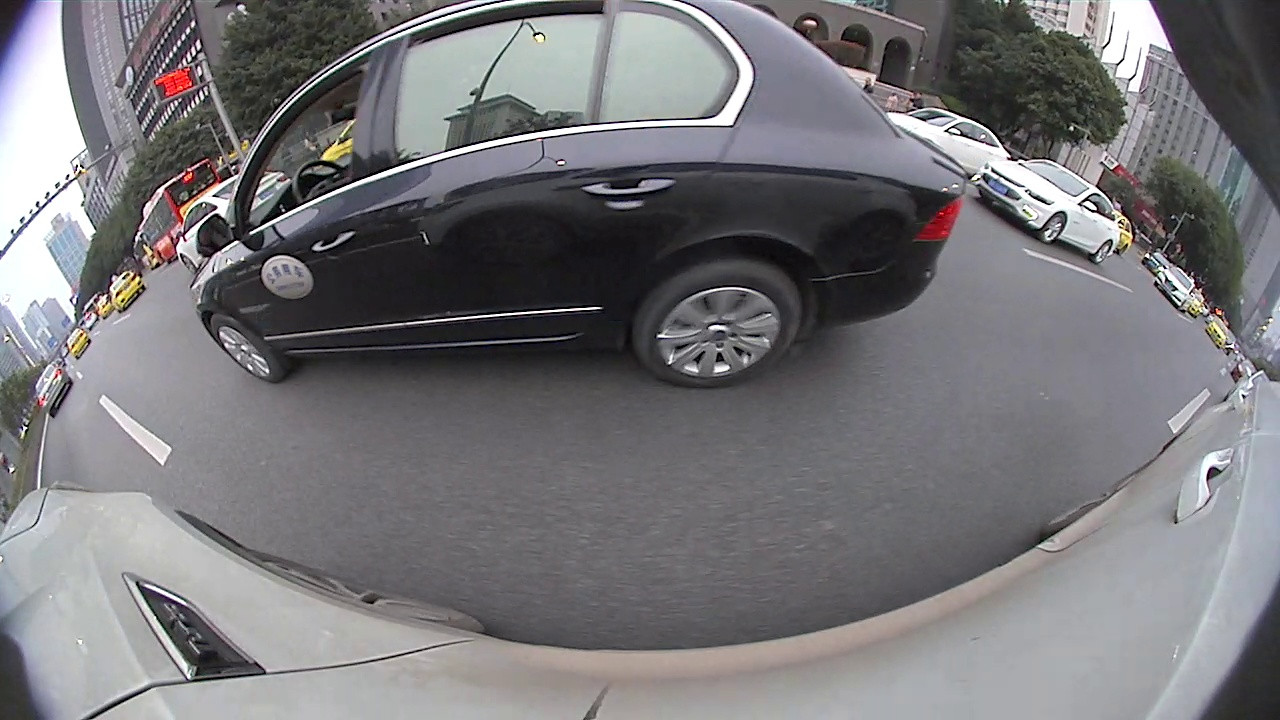bus: (106, 224, 231, 316), (708, 141, 781, 180), (1, 308, 26, 362), (660, 152, 681, 174), (685, 154, 706, 174)
car: (1, 313, 164, 487), (739, 131, 964, 255), (526, 128, 652, 229), (395, 155, 521, 230), (183, 238, 266, 281)
front: (42, 381, 127, 482), (740, 187, 753, 212), (512, 182, 520, 205)
rear: (806, 191, 836, 240), (473, 188, 486, 220)
